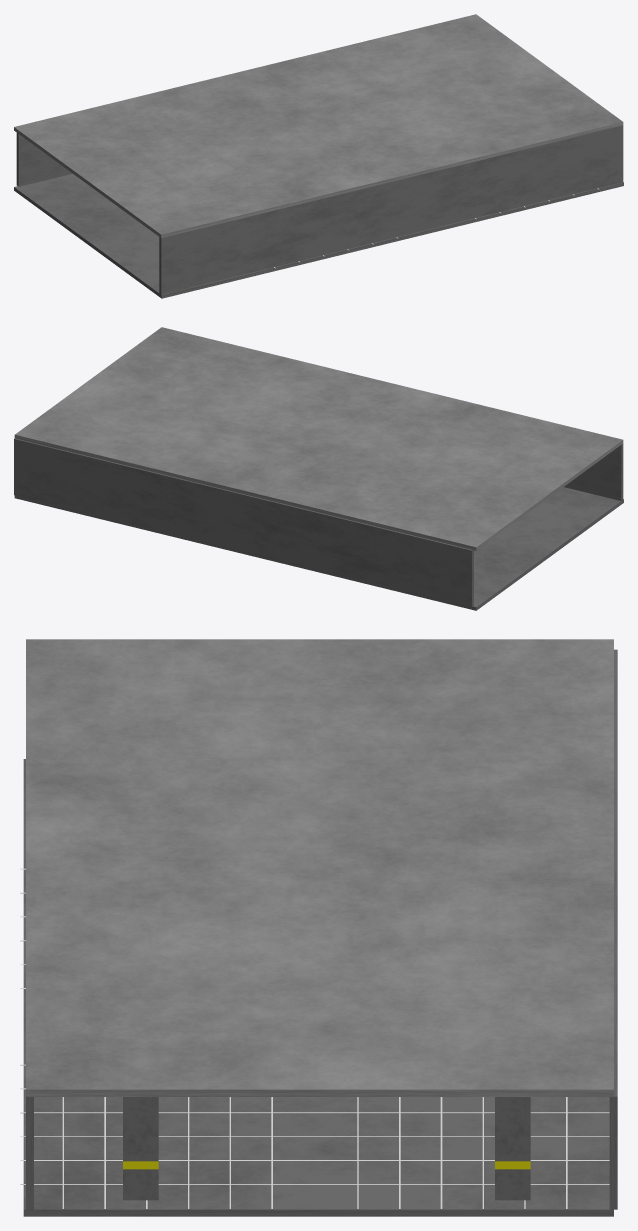
File: Frame 02. Repeating parking aisle. Floor labels and distances should not be trusted...fbx
3 renders of one model, top to bottom at view 1: azimuth 30°, elevation 25°; view 2: azimuth 150°, elevation 25°; view 3: azimuth 270°, elevation 25°, orthographic. The views are drawn at different scales.
Parts seen in each view (by area): view 1: Cube.130, Cube.131, Cube.129, Cube.132; view 2: Cube.130, Cube.132, Cube.129, Cube.131; view 3: Cube.130, Cube.129, Cube.138, Cube.141, Cube.132, Cube.142, Cube.143, Cube.131.
Boxes of the visible parts, left/top/right/bottom form: Cube.130: left=14, top=14, right=623, bottom=238; Cube.131: left=159, top=125, right=623, bottom=294; Cube.129: left=14, top=174, right=623, bottom=298; Cube.132: left=16, top=133, right=72, bottom=186; Cube.130: left=14, top=327, right=623, bottom=550; Cube.132: left=14, top=438, right=473, bottom=606; Cube.129: left=14, top=487, right=623, bottom=610; Cube.131: left=564, top=443, right=623, bottom=500; Cube.130: left=26, top=639, right=613, bottom=1096; Cube.129: left=23, top=759, right=613, bottom=1216; Cube.138: left=495, top=1097, right=530, bottom=1200; Cube.141: left=123, top=1097, right=158, bottom=1200; Cube.132: left=609, top=649, right=617, bottom=1209; Cube.142: left=315, top=1097, right=609, bottom=1208; Cube.143: left=20, top=1064, right=314, bottom=1208; Cube.131: left=26, top=1097, right=33, bottom=1209.
Size of the model in its own units: 27234 by 3581 by 15255.
Materials: 4 (2 with a texture image).
